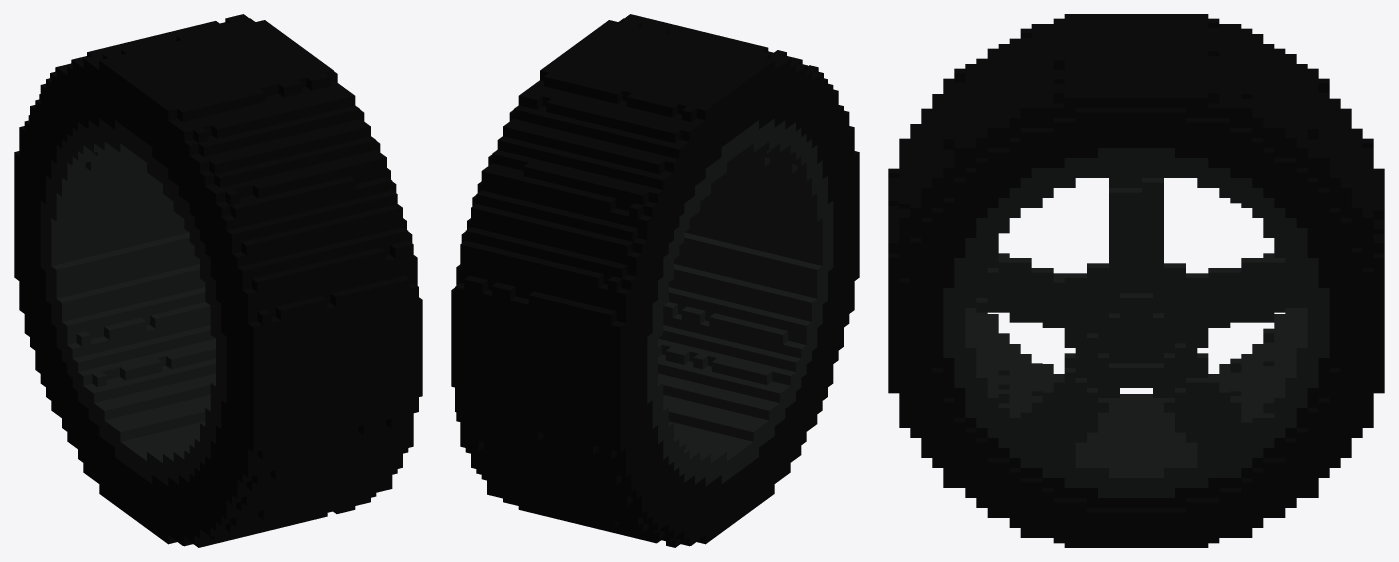
The model's file is WheelObj.obj.
3 views of the same model, side by side, from view 1: azimuth 30°, elevation 25°; view 2: azimuth 150°, elevation 25°; view 3: azimuth 270°, elevation 25° (orthographic). The views are drawn at different scales.
Bounding box in the file's own units: 1.9 × 4.5 × 4.5.
